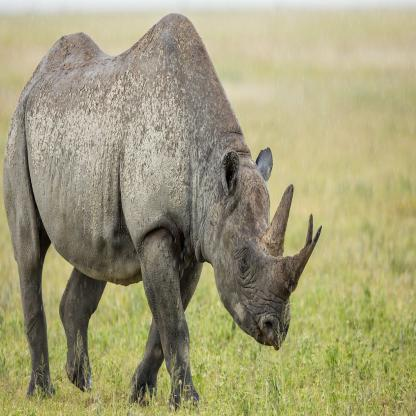Diceros bicornis: (2, 11, 323, 410)
